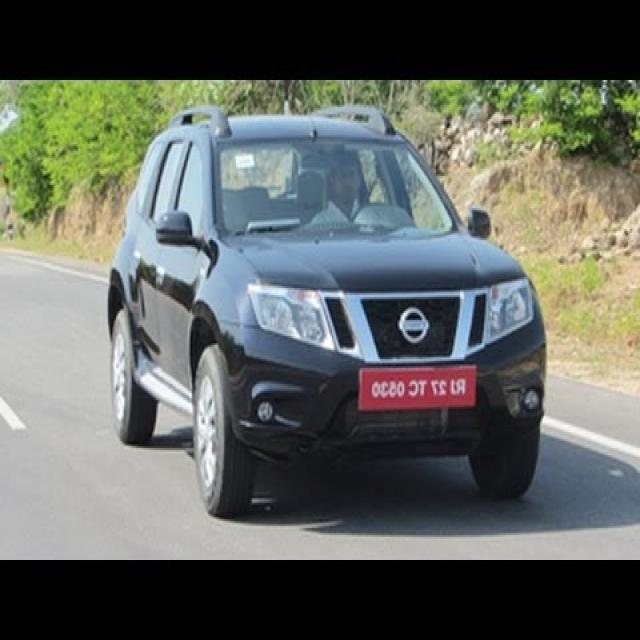number-plate: (346, 356, 486, 425)
